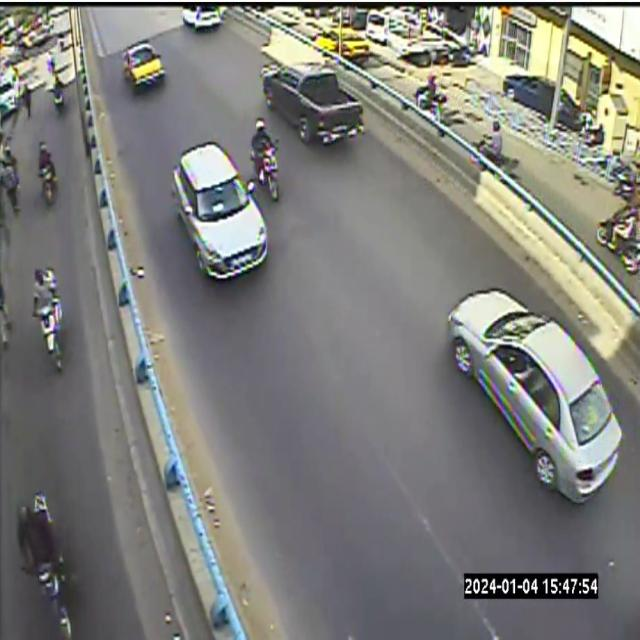car: (441, 288, 622, 513), (261, 35, 363, 143), (503, 75, 554, 117), (503, 76, 554, 117), (314, 27, 370, 60), (557, 90, 582, 131), (558, 91, 581, 131)
